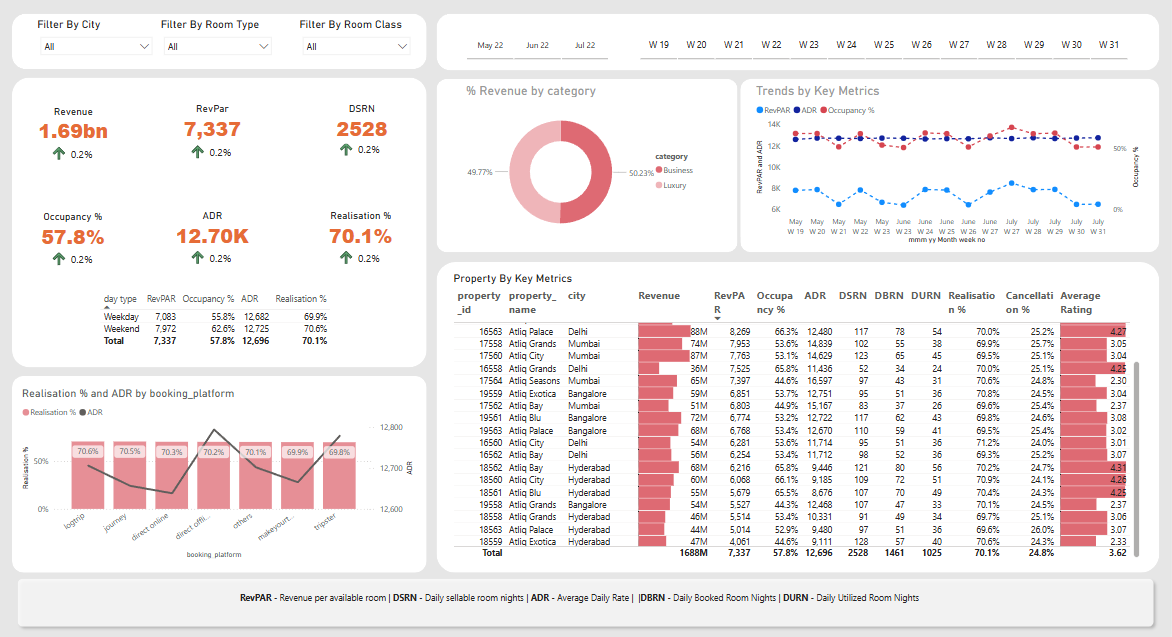

The page's visual inventory and layout, read from the dashboard file:
{"tool":"powerbi","page":{"name":"Home","canvas":[1800,1100],"ordinal":1},"visuals":[{"type":"shape","box":[21.9,227.1,637.2,445.4],"z":0},{"type":"shape","box":[673.4,130,1110.3,87.4],"z":1000},{"type":"shape","box":[21.3,130,637.2,85.2],"z":2000},{"type":"slicer","title":"Filter By City","fields":{"Values":["dim_hotels.city"]},"box":[55.4,136.4,191.8,76.7],"z":3000},{"type":"slicer","title":"Filter By Room Type","fields":{"Values":["dim_rooms.room_class"]},"box":[245.1,136.4,185.4,76.7],"z":4000},{"type":"slicer","fields":{"Values":["dim_date.mmm yy"]},"box":[694.8,149.2,266.4,57.5],"z":5000},{"type":"tableEx","fields":{"Values":["key_measures.Revenue WoW change %"]},"box":[71.4,298.4,87.4,70.3],"z":6000},{"type":"slicer","fields":{"Values":["dim_date.week no"]},"box":[961.1,149.2,797,57.5],"z":7000},{"type":"tableEx","fields":{"Values":["key_measures.Revenue WoW change %"]},"box":[514.4,292.6,87.4,74.6],"z":8000},{"type":"tableEx","fields":{"Values":["key_measures.Revenue WoW change %"]},"box":[71.7,461.3,87.4,68.2],"z":9000},{"type":"card","title":"Revenue","fields":{"Values":["key_measures.Revenue"]},"box":[44.3,269.9,141.8,63.3],"z":10000},{"type":"shape","box":[673.4,230.2,462.5,266.4],"z":11000},{"type":"donutChart","title":"% Revenue by category","fields":{"Category":["dim_hotels.category"],"Y":["key_measures.Occupancy %"]},"box":[713.9,236.6,368.7,251.5],"z":12000},{"type":"tableEx","fields":{"Values":["key_measures.Revenue WoW change %"]},"box":[285.6,458.2,87.4,68.2],"z":13000},{"type":"card","title":"Occupancy %","fields":{"Values":["key_measures.Occupancy %"]},"box":[44.8,432.6,140.7,63.9],"z":14000},{"type":"card","title":"DSRN","fields":{"Values":["key_measures.DSRN"]},"box":[487.3,266.9,141.8,63.3],"z":15000},{"type":"card","title":"ADR","fields":{"Values":["key_measures.ADR"]},"box":[253.6,430.5,151.3,63.9],"z":16000},{"type":"tableEx","fields":{"Values":["key_measures.Revenue WoW change %"]},"box":[285.2,296.9,87.4,68.2],"z":17000},{"type":"tableEx","fields":{"Values":["key_measures.Revenue WoW change %"]},"box":[514.4,458.2,87.4,68.2],"z":18000},{"type":"card","title":"Realisation %","fields":{"Values":["key_measures.Realisation %"]},"box":[490.2,430.5,134.3,63.9],"z":19000},{"type":"shape","box":[673.4,511.5,1110.3,477.4],"z":20000},{"type":"card","title":"RevPar","fields":{"Values":["key_measures.RevPAR"]},"box":[253.2,267,151.3,63.9],"z":21000},{"type":"shape","box":[1140.2,230.2,643.6,266.4],"z":22000},{"type":"lineChart","title":"Trends by Key Metrics","fields":{"Category":["dim_date.mmm yy.Variation.Date Hierarchy.Month","dim_date.week no"],"Y":["key_measures.RevPAR","key_measures.ADR"],"Y2":["key_measures.Occupancy %"]},"box":[1159.3,236.6,598.8,251.5],"z":23000},{"type":"tableEx","fields":{"Values":["dim_date.day type","key_measures.RevPAR","key_measures.Occupancy %","key_measures.ADR","key_measures.Realisation %"]},"box":[151.3,554.1,368.7,100.2],"z":24000},{"type":"shape","box":[21.3,686.2,637.2,302.6],"z":25000},{"type":"lineStackedColumnComboChart","fields":{"Category":["fact_bookings.booking_platform"],"Y":["key_measures.Realisation %"],"Y2":["key_measures.ADR"]},"box":[32,703.3,611.6,268.5],"z":26000},{"type":"tableEx","title":"Property By Key Metrics","fields":{"Values":["dim_hotels.property_id","dim_hotels.property_name","dim_hotels.city","key_measures.Revenue","key_measures.RevPAR","key_measures.Occupancy %","key_measures.ADR","key_measures.DSRN","key_measures.DBRN","key_measures.DURN","key_measures.Realisation %","key_measures.Cancellation %"]},"box":[694.8,526.4,1063.4,445.4],"z":27000},{"type":"shape","box":[21.3,988.8,1762.5,91.6],"z":28000},{"type":"textbox","box":[366.6,1012.3,1063.4,44.8],"z":29000},{"type":"slicer","title":"Filter By Room Class","fields":{"Values":["dim_rooms.room_class"]},"box":[458.2,136.4,185.4,76.7],"z":30000}]}

Visuals, with their boxes on the page's 1800x1100 design canvas (x1, y1, x2, y2). These are canvas units, not pixel positions in the 1172x637 screenshot, which may show the page scaled, cropped or inside an application window:
shape: BBox(22, 227, 659, 672)
shape: BBox(673, 130, 1784, 217)
shape: BBox(21, 130, 658, 215)
"Filter By City" slicer: BBox(55, 136, 247, 213)
"Filter By Room Type" slicer: BBox(245, 136, 430, 213)
slicer - dim_date.mmm yy: BBox(695, 149, 961, 207)
tableEx - key_measures.Revenue WoW change %: BBox(71, 298, 159, 369)
slicer - dim_date.week no: BBox(961, 149, 1758, 207)
tableEx - key_measures.Revenue WoW change %: BBox(514, 293, 602, 367)
tableEx - key_measures.Revenue WoW change %: BBox(72, 461, 159, 530)
"Revenue" card: BBox(44, 270, 186, 333)
shape: BBox(673, 230, 1136, 497)
"% Revenue by category" donutChart: BBox(714, 237, 1083, 488)
tableEx - key_measures.Revenue WoW change %: BBox(286, 458, 373, 526)
"Occupancy %" card: BBox(45, 433, 186, 496)
"DSRN" card: BBox(487, 267, 629, 330)
"ADR" card: BBox(254, 430, 405, 494)
tableEx - key_measures.Revenue WoW change %: BBox(285, 297, 373, 365)
tableEx - key_measures.Revenue WoW change %: BBox(514, 458, 602, 526)
"Realisation %" card: BBox(490, 430, 624, 494)
shape: BBox(673, 512, 1784, 989)
"RevPar" card: BBox(253, 267, 404, 331)
shape: BBox(1140, 230, 1784, 497)
"Trends by Key Metrics" lineChart: BBox(1159, 237, 1758, 488)
tableEx - dim_date.day type x key_measures.RevPAR: BBox(151, 554, 520, 654)
shape: BBox(21, 686, 658, 989)
lineStackedColumnComboChart - fact_bookings.booking_platform x key_measures.Realisation %: BBox(32, 703, 644, 972)
"Property By Key Metrics" tableEx: BBox(695, 526, 1758, 972)
shape: BBox(21, 989, 1784, 1080)
textbox: BBox(367, 1012, 1430, 1057)
"Filter By Room Class" slicer: BBox(458, 136, 644, 213)
